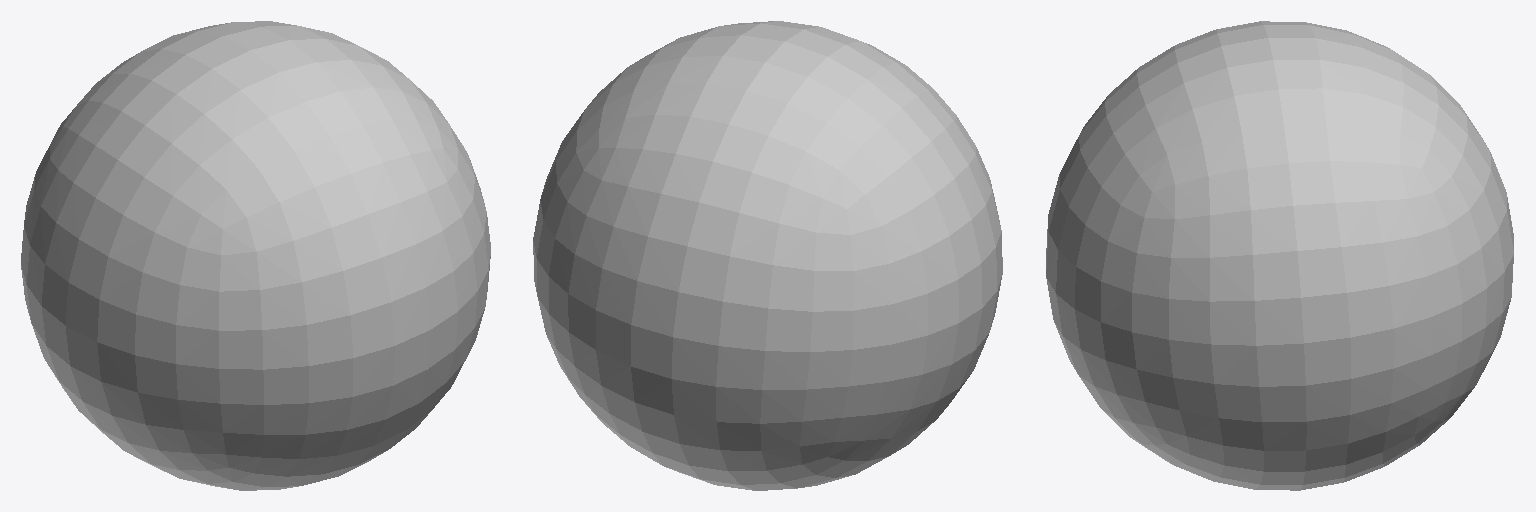
The model's file is Earth 2K.obj.
3 renders of one model, left to right at view 1: azimuth 30°, elevation 25°; view 2: azimuth 150°, elevation 25°; view 3: azimuth 270°, elevation 25°, orthographic.
Visible parts, largest first — view 1: Earth_Cube.002; view 2: Earth_Cube.002; view 3: Earth_Cube.002.
Part boxes in pixels (x1,y1,x2,y2): Earth_Cube.002: (21,21,490,490); Earth_Cube.002: (533,21,1002,490); Earth_Cube.002: (1046,21,1513,490).
Size of the model in its own units: 6.31 by 6.33 by 6.31.